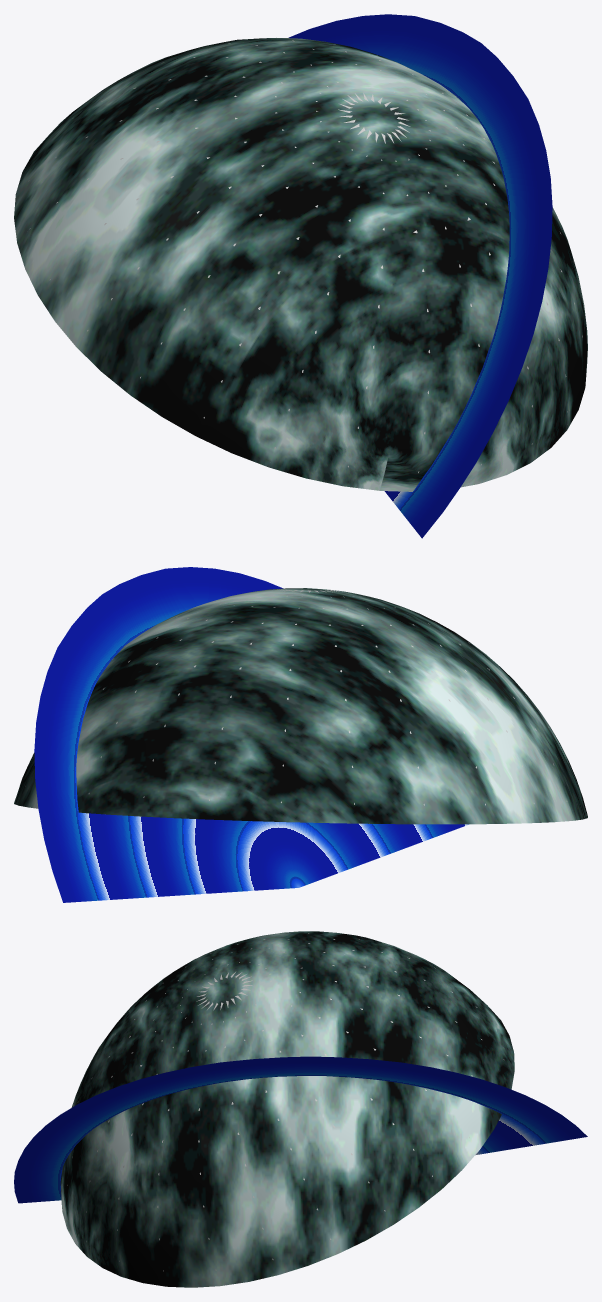
Rendered from course_fix.dae.
The picture shows the model from 3 angles, top to bottom: view 1: azimuth 30°, elevation 25°; view 2: azimuth 150°, elevation 25°; view 3: azimuth 270°, elevation 25°; orthographic projection. The views are drawn at different scales.
Parts seen in each view (by area): view 1: polygon19b, polygon20, polygon19; view 2: polygon19b, polygon20; view 3: polygon19b, polygon20, polygon19.
Part boxes in pixels (x1=…): polygon19b: x1=14, y1=38, x2=587, y2=491; polygon20: x1=288, y1=14, x2=552, y2=538; polygon19: x1=28, y1=40, x2=582, y2=472; polygon19b: x1=14, y1=588, x2=587, y2=824; polygon20: x1=34, y1=567, x2=468, y2=902; polygon19b: x1=60, y1=931, x2=514, y2=1287; polygon20: x1=14, y1=1056, x2=587, y2=1203; polygon19: x1=67, y1=933, x2=503, y2=1271.
Bounding box in the file's own units: 332562 × 202919 × 401208.
